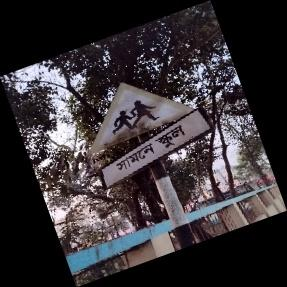School-in-front: (89, 83, 212, 191)
